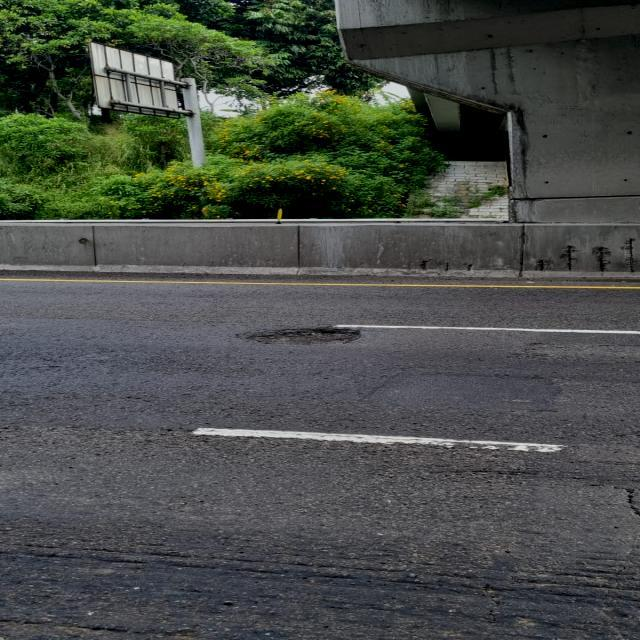Buraco: (243, 324, 366, 347)
